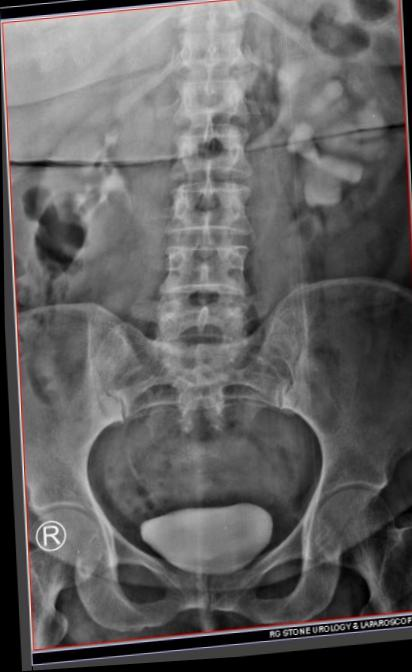bladder: (119, 517, 272, 625)
left kidney: (265, 7, 408, 247)
vertebrae: (158, 63, 242, 132)
